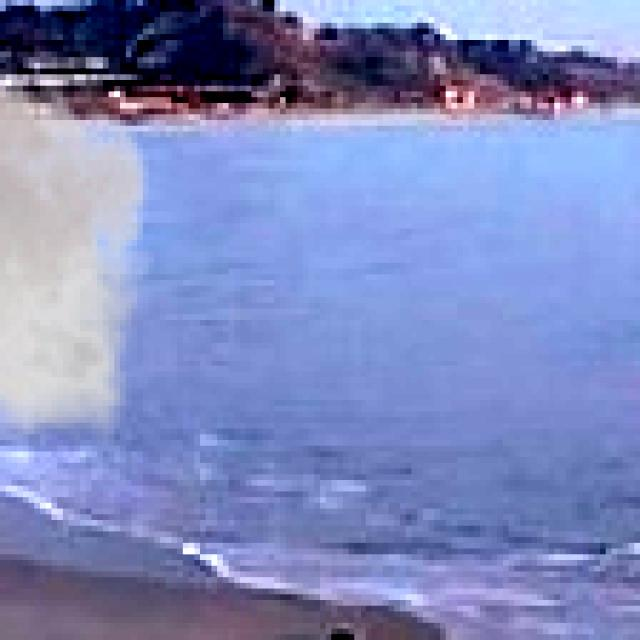smoke: (0, 51, 166, 508)
